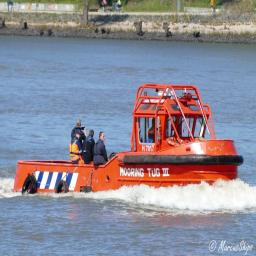tugboat: (9, 81, 247, 202)
